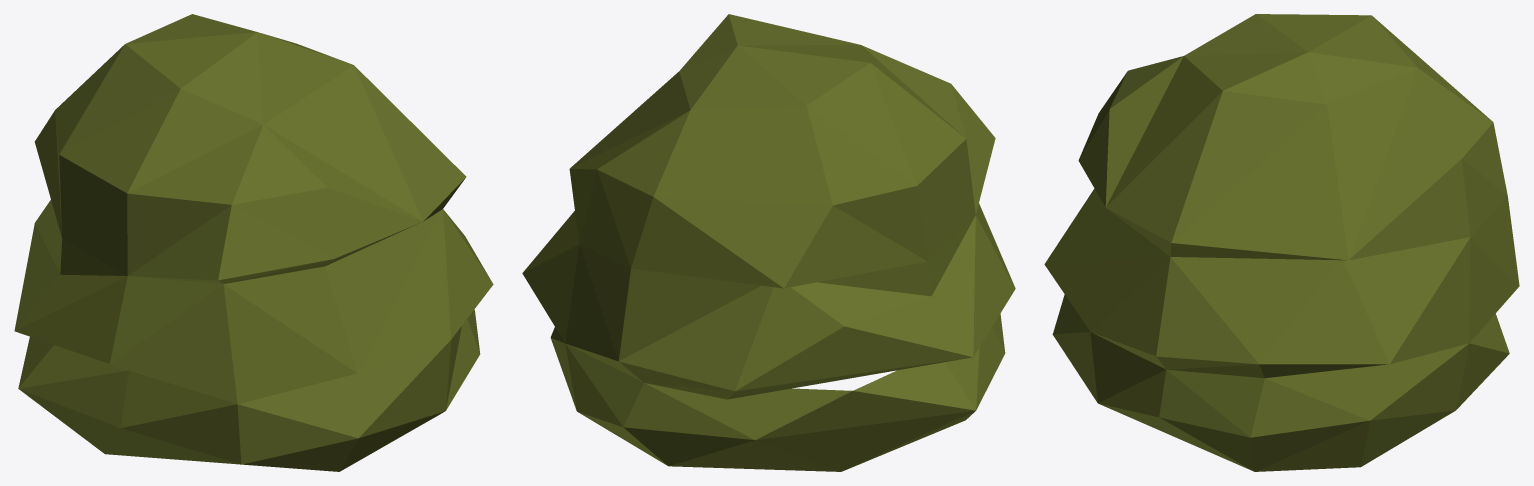
Rendered from bush_d.glb.
3 renders of one model, left to right at view 1: azimuth 30°, elevation 25°; view 2: azimuth 150°, elevation 25°; view 3: azimuth 270°, elevation 25°, orthographic. The views are drawn at different scales.
Parts seen in each view (by area): view 1: bush_d; view 2: bush_d; view 3: bush_d.
Part boxes in pixels (x1=…): bush_d: x1=14, y1=14, x2=493, y2=471; bush_d: x1=522, y1=14, x2=1015, y2=471; bush_d: x1=1044, y1=14, x2=1519, y2=471.
Bounding box in the file's own units: 1.35 × 1.1 × 1.33.
